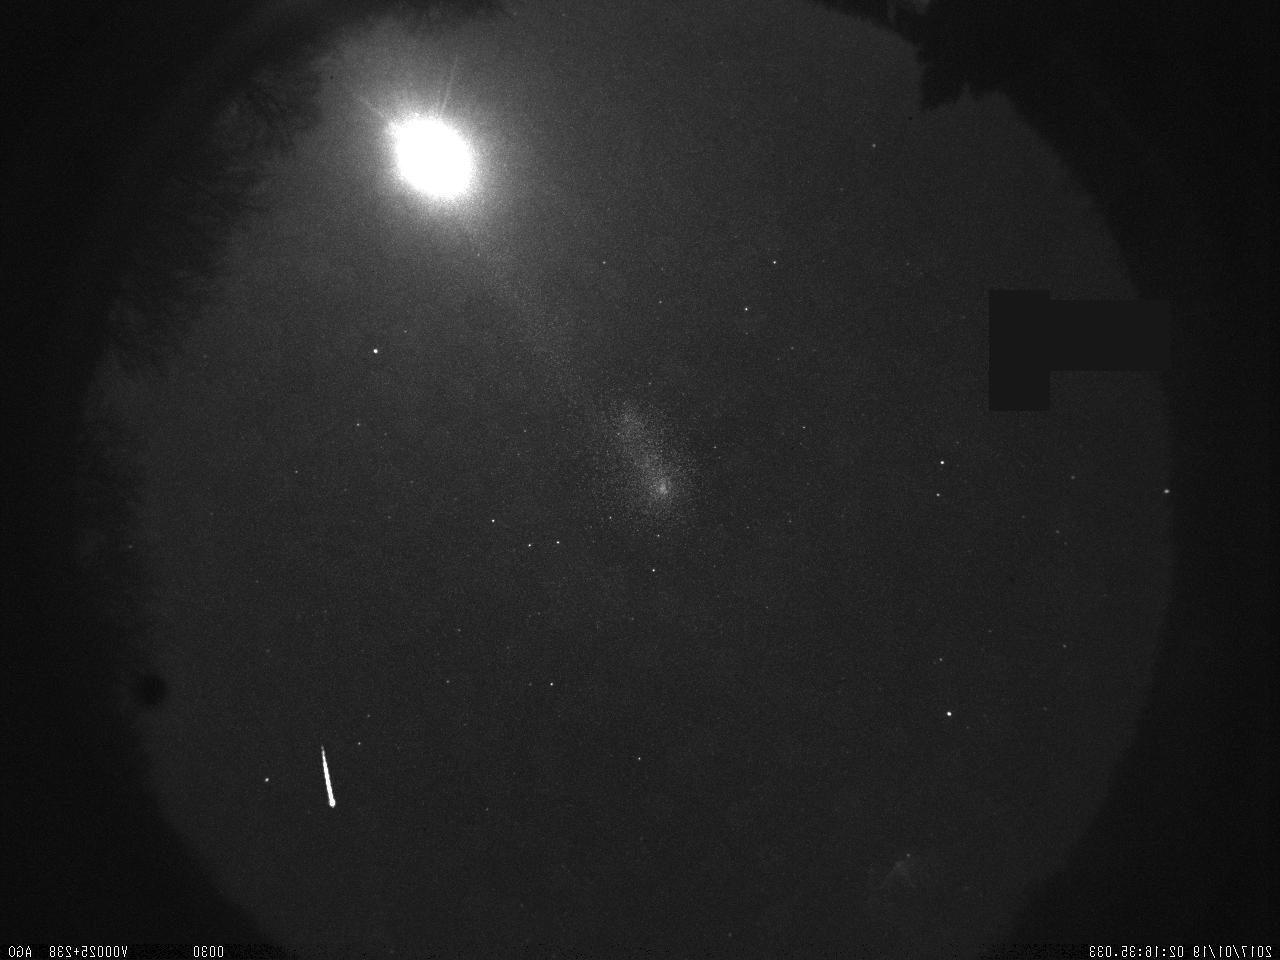meteor: (309, 720, 339, 821)
